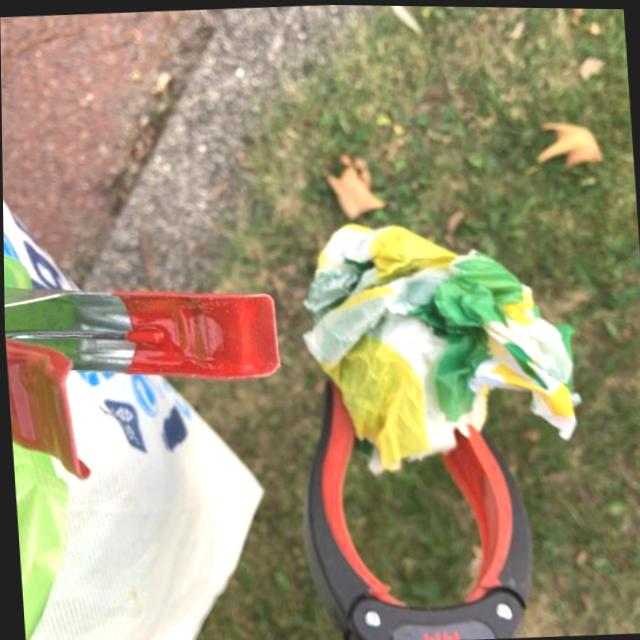Paper: (290, 204, 586, 478)
